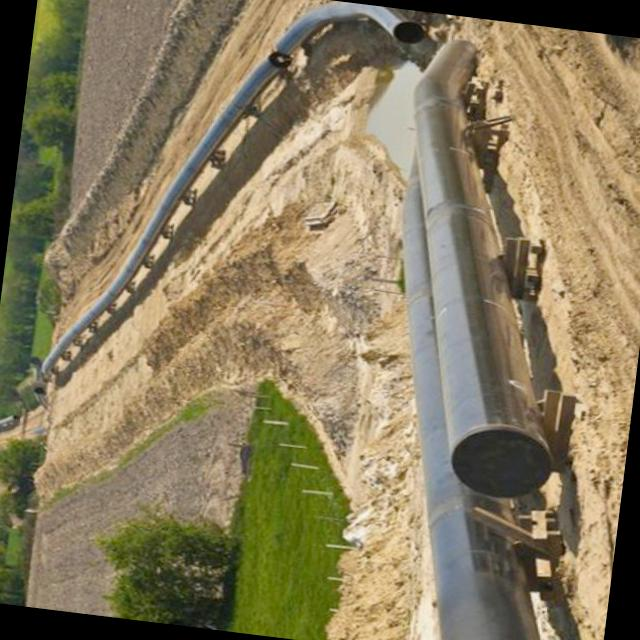gas: (43, 0, 424, 370), (402, 170, 539, 640), (414, 40, 551, 497)
